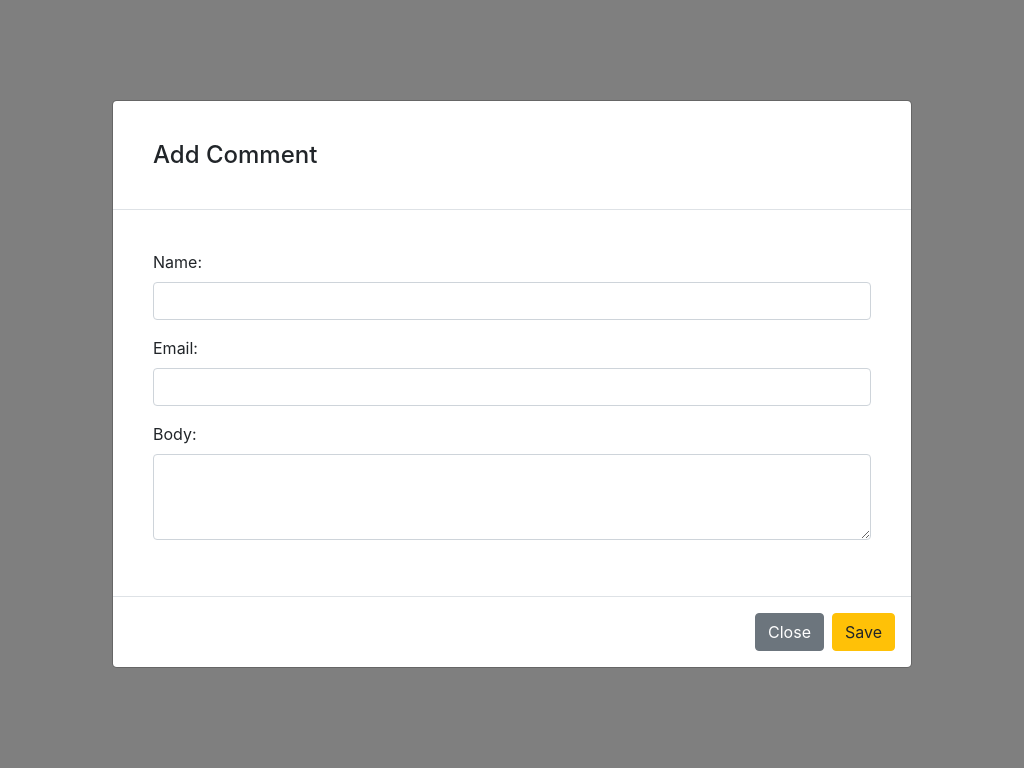
ModalForm component › on Post page › display error messages after submit a form
The width and height of the screenshot is (1024, 768).
In the field labelled "Name:": (512, 301) [153,282,871,320], type "Very long name and long second name"
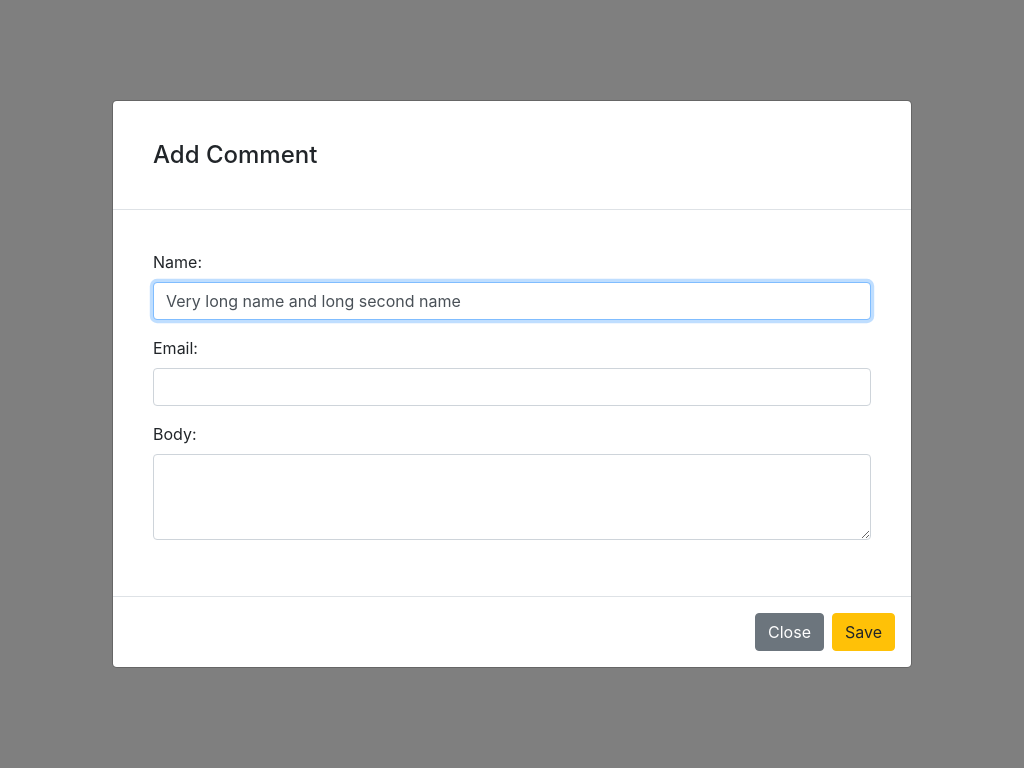
In the field labelled "Email:": (512, 387) [153,368,871,406], type "mail@com"
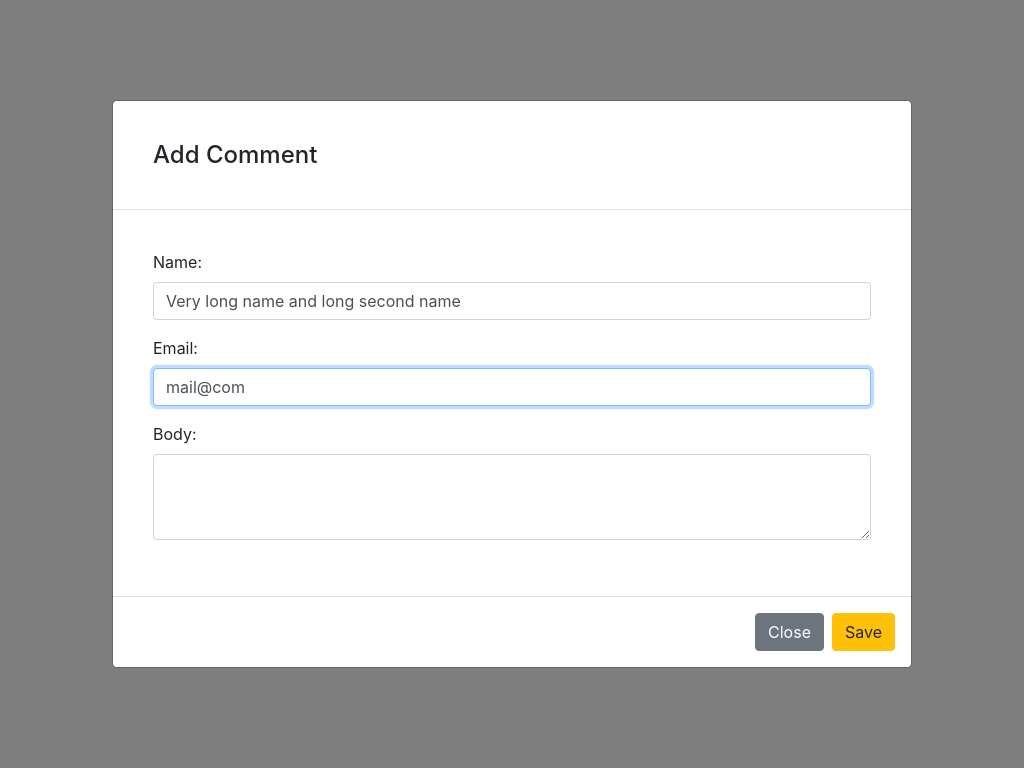
Click the button "Save": (864, 632) [832,613,895,651]
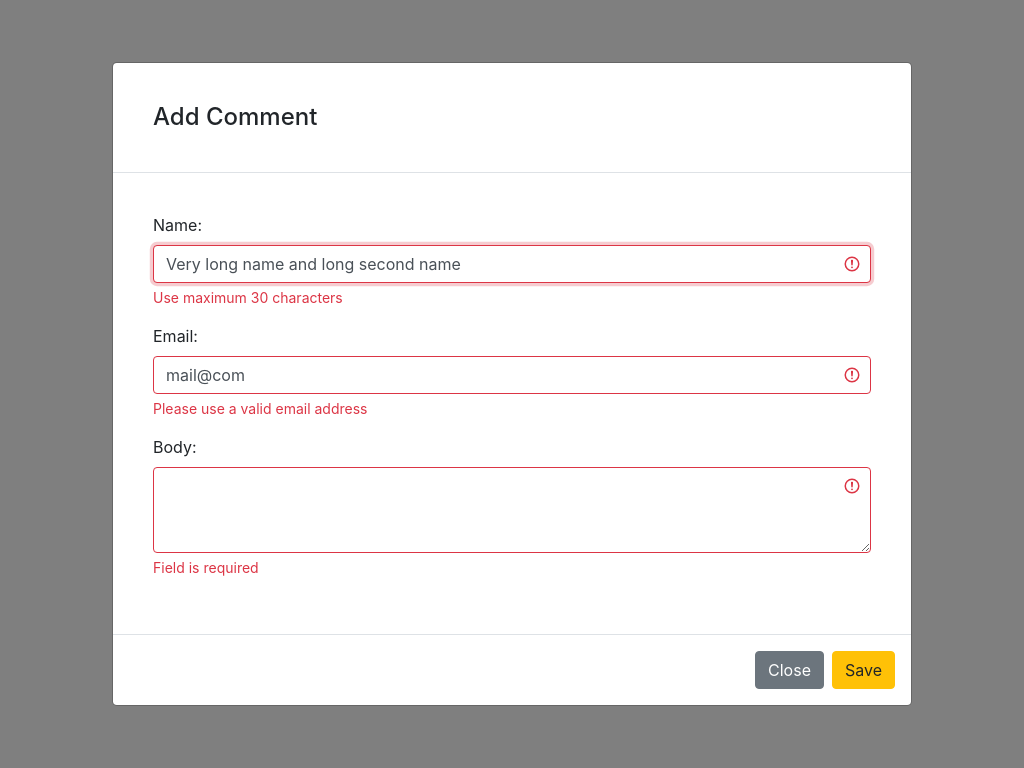
Expected: the text "Field is required" is shown, [153,559,259,576]
Expected: the text "Use maximum 30 characters" is shown, [153,289,343,306]
Expected: the text "Please use a valid email address" is shown, [153,400,368,417]
